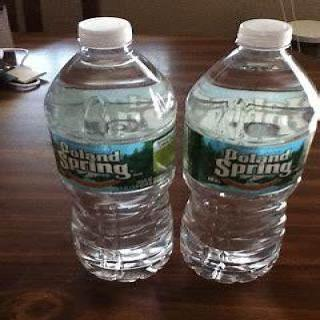Plastic-bottle: (175, 10, 320, 293), (38, 14, 181, 288)
